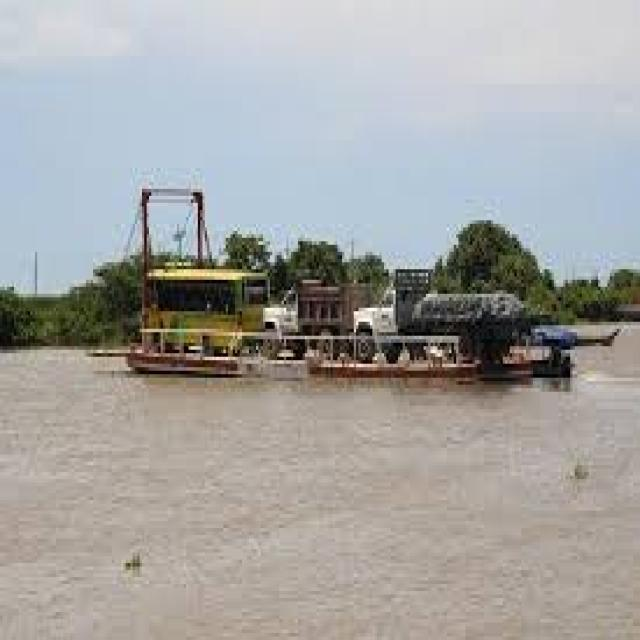cargoship: (133, 170, 589, 386)
